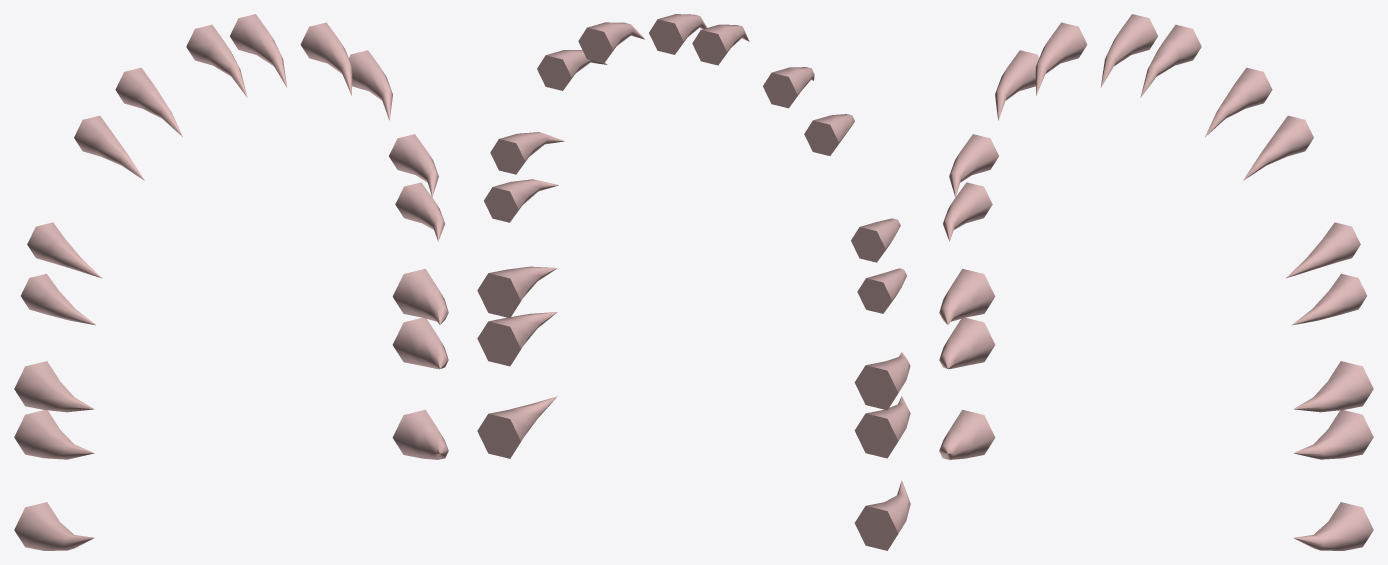
The model's file is Door_teeth.fbx.
3 views of the same model, side by side, from view 1: azimuth 30°, elevation 25°; view 2: azimuth 150°, elevation 25°; view 3: azimuth 330°, elevation 25° (orthographic).
Parts seen in each view (by area): view 1: Tooth; view 2: Tooth; view 3: Tooth.
Boxes of the visible parts, bbox=[...] form: Tooth: bbox=[14, 14, 448, 550]; Tooth: bbox=[477, 14, 910, 550]; Tooth: bbox=[939, 14, 1373, 550].
Size of the model in its own units: 12.26 by 13.23 by 2.12.
